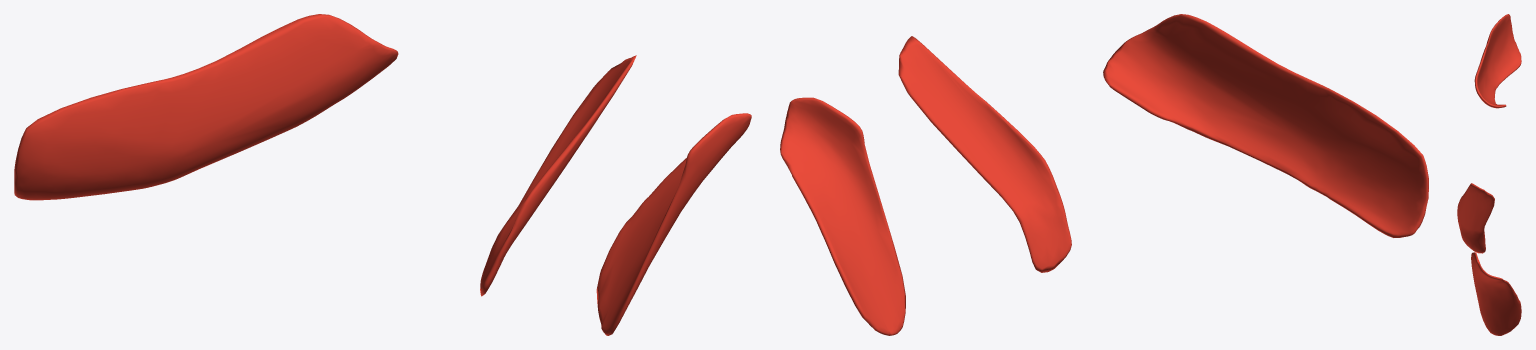
Rendered from Rectus_abdominis_muscle-Thoracic_insertions.r_Generated_Mesh_Fr.glb.
3 views of the same model, side by side, from view 1: azimuth 30°, elevation 25°; view 2: azimuth 150°, elevation 25°; view 3: azimuth 270°, elevation 25° (orthographic). The views are drawn at different scales.
Visible parts, largest first — view 1: Rectus_abdominis_muscle-Thoracic_insertions.r_Generated_Mesh; view 2: Rectus_abdominis_muscle-Thoracic_insertions.r_Generated_Mesh; view 3: Rectus_abdominis_muscle-Thoracic_insertions.r_Generated_Mesh.
Part boxes in pixels (left/top/right/bottom): Rectus_abdominis_muscle-Thoracic_insertions.r_Generated_Mesh: left=14, top=14, right=751, bottom=335; Rectus_abdominis_muscle-Thoracic_insertions.r_Generated_Mesh: left=780, top=14, right=1428, bottom=335; Rectus_abdominis_muscle-Thoracic_insertions.r_Generated_Mesh: left=1457, top=14, right=1521, bottom=335.
Size of the model in its own units: 0.0725 by 0.0394 by 0.011.
